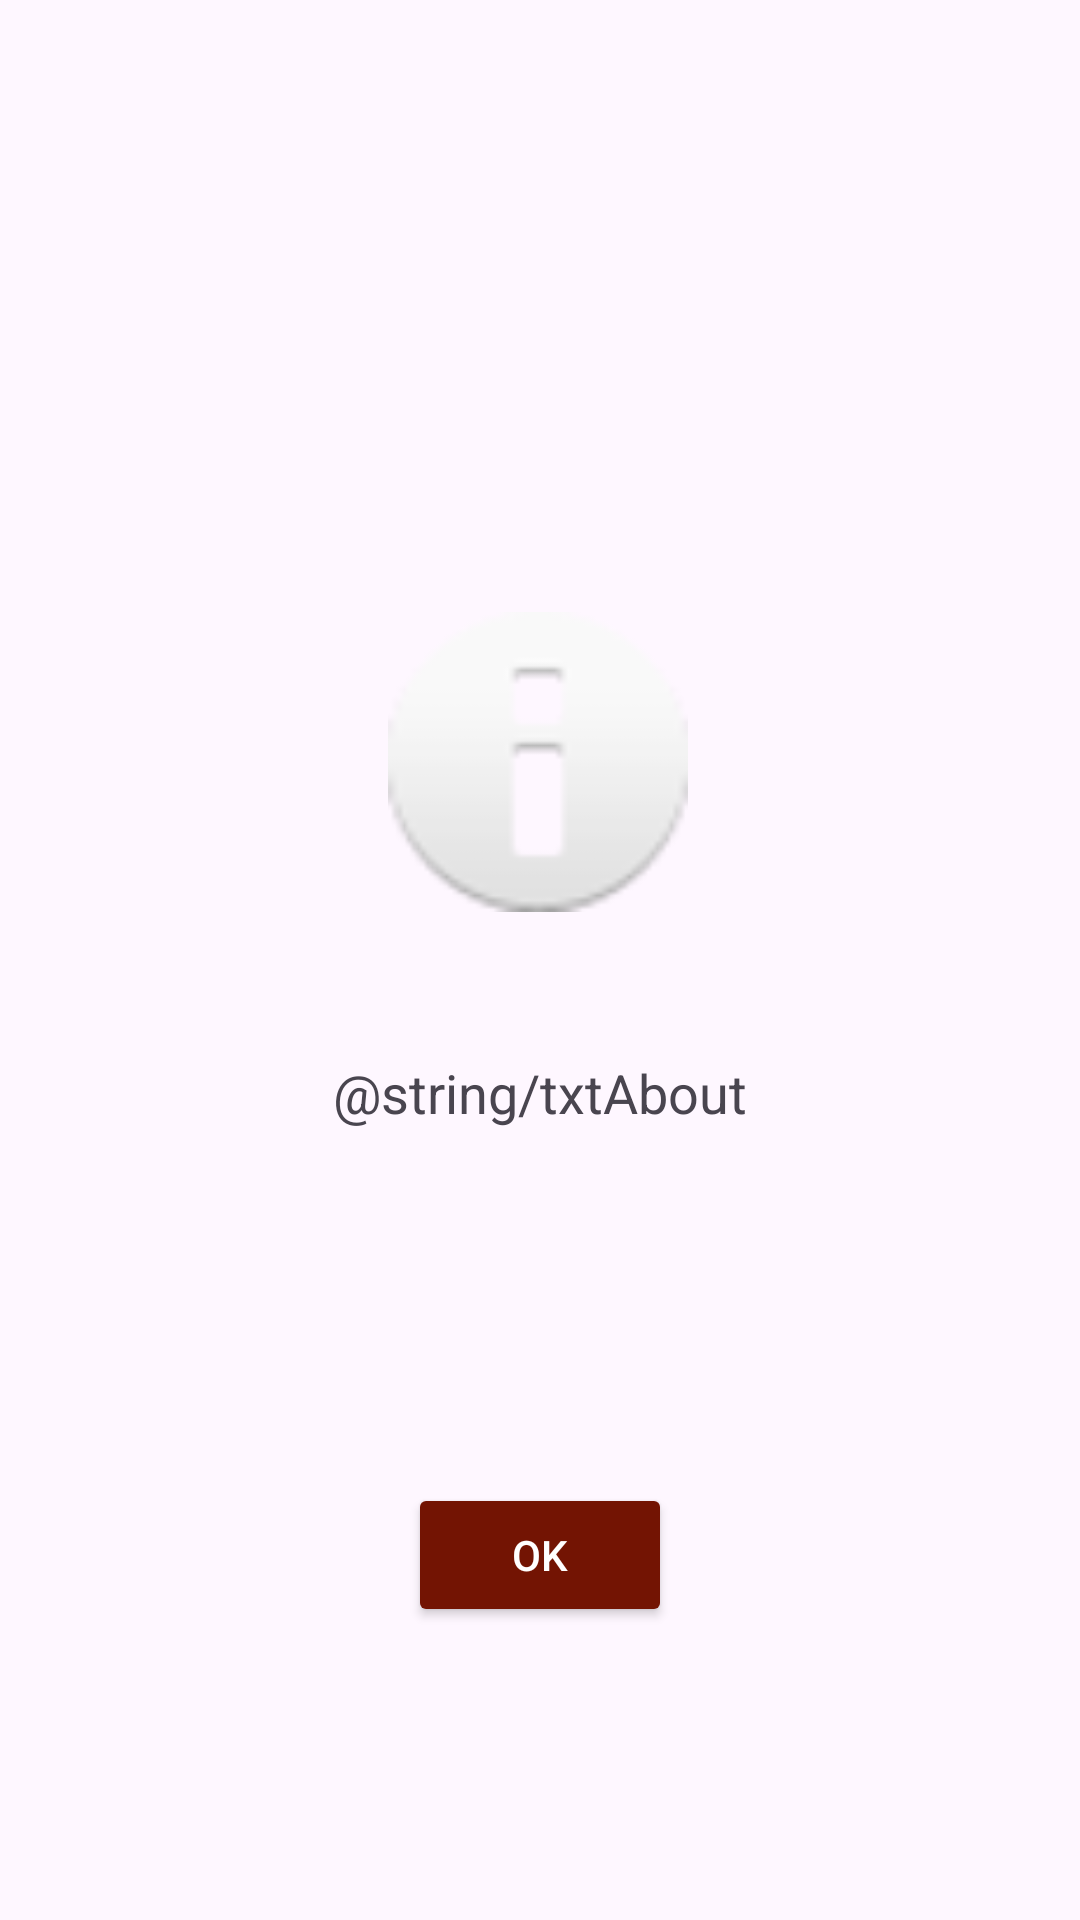

Locate icon controls on the screen. Image size 1080x1920, boxes as (x1, y1, x2, y2).
info: (388, 667, 688, 912)
